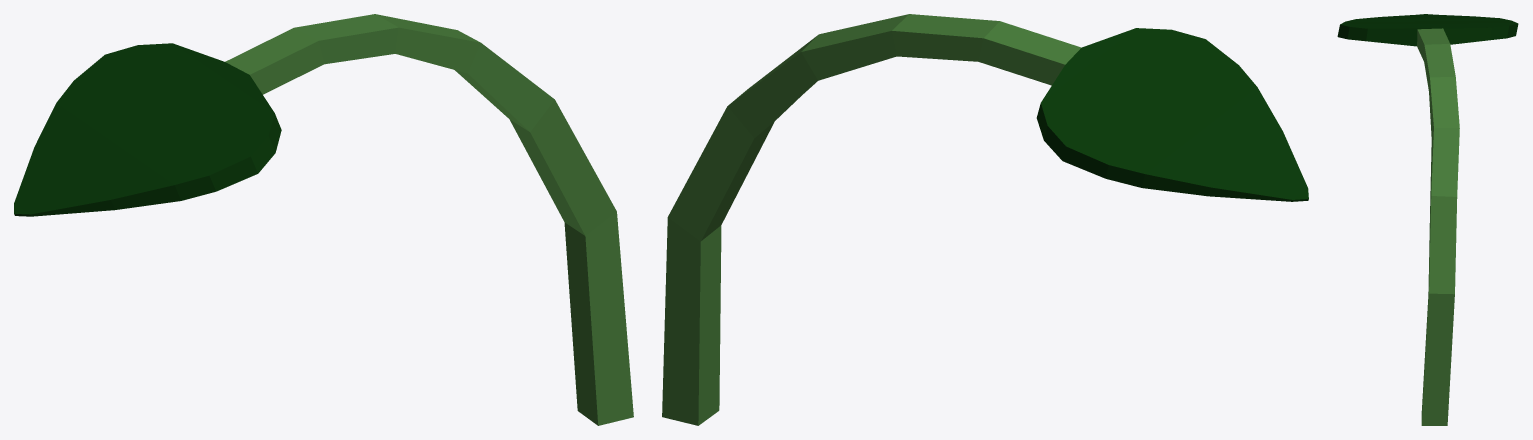
File: extramediumleaf.fbx
The picture shows the model from 3 angles, left to right: view 1: azimuth 30°, elevation 25°; view 2: azimuth 150°, elevation 25°; view 3: azimuth 270°, elevation 25°; orthographic projection. The views are drawn at different scales.
Parts seen in each view (by area): view 1: Cube; view 2: Cube; view 3: Cube.
Part boxes in pixels (<box>): Cube: <box>14,14,633,425</box>; Cube: <box>662,14,1308,425</box>; Cube: <box>1337,14,1518,425</box>.
Size of the model in its own units: 167 by 117 by 67.36.
